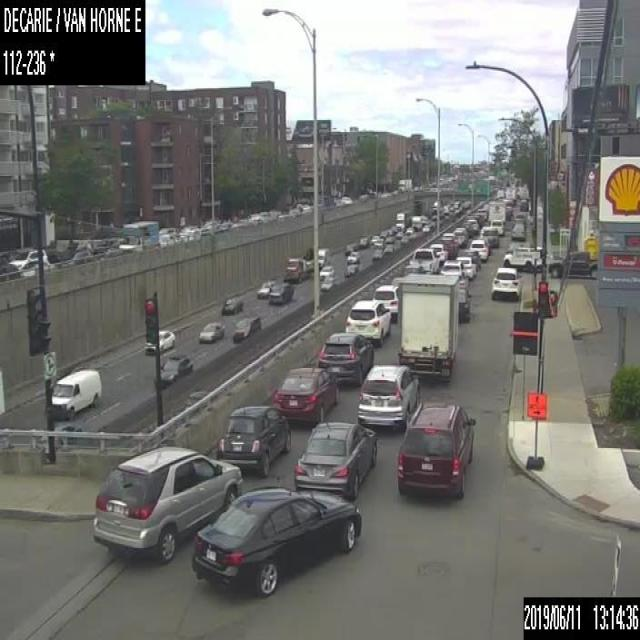construction: (526, 392, 546, 419)
vehicle: (191, 487, 362, 596), (91, 444, 242, 563), (397, 402, 475, 497), (397, 272, 458, 380), (294, 420, 377, 498), (218, 404, 289, 477), (356, 363, 419, 430), (274, 366, 337, 421), (318, 331, 374, 385), (46, 366, 102, 418), (345, 300, 390, 345), (548, 250, 596, 278), (8, 247, 54, 276), (118, 220, 159, 252), (159, 352, 194, 387), (283, 247, 312, 282), (372, 284, 398, 322), (502, 244, 540, 270), (491, 266, 521, 298), (230, 316, 260, 344), (408, 247, 439, 273), (454, 273, 470, 321), (197, 320, 225, 341), (268, 281, 293, 304), (440, 258, 466, 280), (458, 248, 480, 270), (436, 236, 457, 259), (220, 294, 243, 314), (487, 200, 506, 224), (158, 327, 175, 353), (454, 256, 475, 277), (0, 262, 22, 282), (427, 242, 448, 262), (469, 238, 487, 260), (394, 208, 410, 232), (481, 227, 498, 247), (72, 249, 94, 264), (510, 220, 526, 240), (257, 280, 274, 298), (452, 228, 467, 248), (318, 264, 334, 280), (200, 219, 217, 234), (442, 232, 457, 248), (317, 246, 329, 266), (489, 218, 503, 235), (504, 185, 516, 204), (397, 176, 412, 191), (454, 226, 469, 241), (319, 276, 335, 290), (402, 264, 422, 274), (479, 225, 494, 238), (466, 218, 478, 234), (460, 221, 472, 237), (411, 213, 421, 230), (467, 214, 480, 227), (343, 264, 357, 276), (337, 193, 353, 203), (347, 251, 359, 263), (344, 243, 356, 255), (476, 208, 487, 221), (357, 233, 368, 246), (371, 248, 382, 260), (144, 343, 156, 353), (519, 198, 528, 210), (383, 244, 393, 254), (514, 212, 525, 221), (373, 237, 383, 246), (369, 234, 378, 243), (399, 234, 407, 243), (405, 226, 414, 234), (420, 215, 428, 224), (385, 235, 394, 242), (391, 275, 398, 284), (379, 230, 388, 237), (152, 371, 156, 385), (422, 224, 429, 232), (506, 206, 510, 219), (390, 225, 397, 232), (395, 232, 402, 238), (386, 228, 393, 234), (39, 245, 40, 247)
